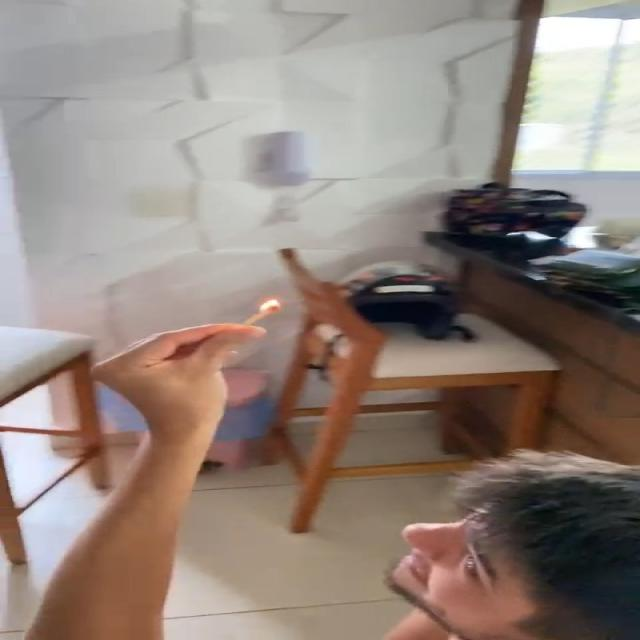fogo-ypXI: (255, 297, 280, 313)
